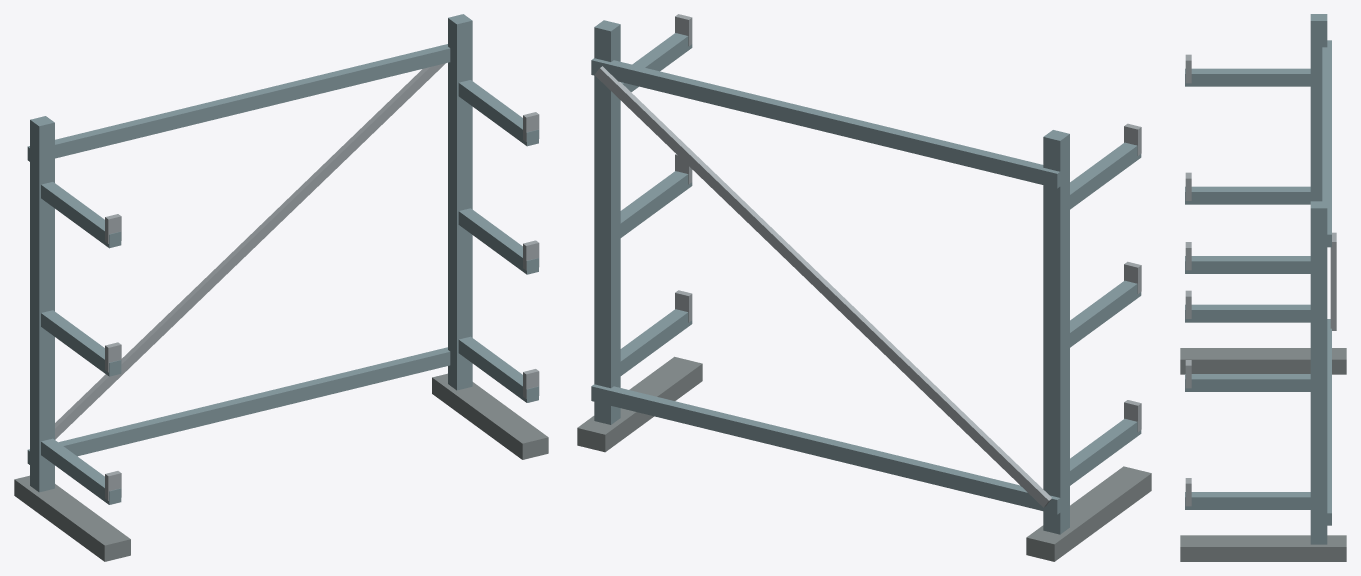
File: SHOP_SteelRack.glb
The picture shows the model from 3 angles, left to right: view 1: azimuth 30°, elevation 25°; view 2: azimuth 150°, elevation 25°; view 3: azimuth 270°, elevation 25°; orthographic projection. The views are drawn at different scales.
Parts seen in each view (by area): view 1: Uprights, Rails, Arms, Feet, BackBrace, EndStops; view 2: Uprights, Rails, Arms, BackBrace, Feet, EndStops; view 3: Arms, Uprights, Feet, Rails, EndStops, BackBrace.
Part boxes in pixels (x1,y1,x2,y2): Uprights: (30,14,472,492); Rails: (27,44,450,464); Arms: (41,80,538,504); Feet: (14,373,548,561); BackBrace: (55,63,445,439); EndStops: (105,112,539,500); Uprights: (594,20,1069,534); Rails: (591,58,1061,514); Arms: (620,33,1141,485); BackBrace: (594,66,1051,507); Feet: (577,356,1151,561); EndStops: (675,14,1141,431); Arms: (1185,68,1310,509); Uprights: (1310,14,1327,544); Feet: (1180,348,1346,561); Rails: (1322,40,1331,525); EndStops: (1185,54,1191,506); BackBrace: (1330,232,1336,330).
Bounding box in the file's own units: 1.7 × 1.4 × 0.6.
